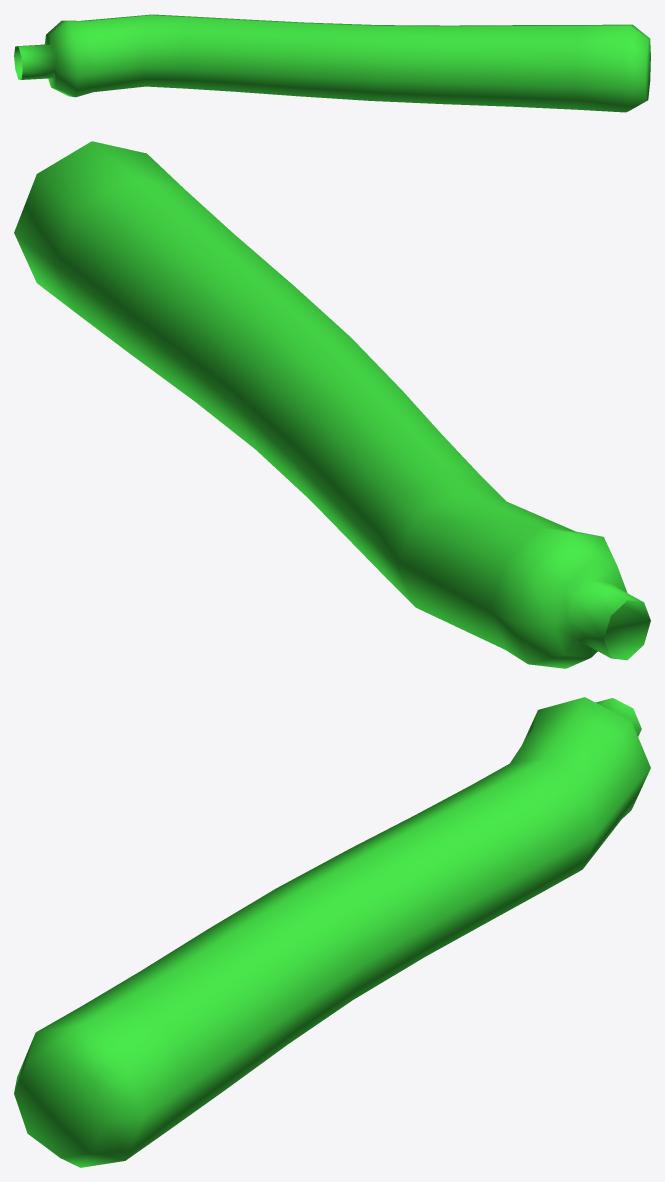
The model's file is SM_Pate_01.fbx.
3 views of the same model, one above another, from view 1: azimuth 30°, elevation 25°; view 2: azimuth 150°, elevation 25°; view 3: azimuth 270°, elevation 25° (orthographic). The views are drawn at different scales.
Parts seen in each view (by area): view 1: SM_Pate_01; view 2: SM_Pate_01; view 3: SM_Pate_01.
Boxes of the visible parts, bbox=[...] form: SM_Pate_01: bbox=[14, 14, 650, 112]; SM_Pate_01: bbox=[14, 141, 650, 668]; SM_Pate_01: bbox=[14, 697, 650, 1167].
Size of the model in its own units: 1 by 0.1673 by 0.678.
